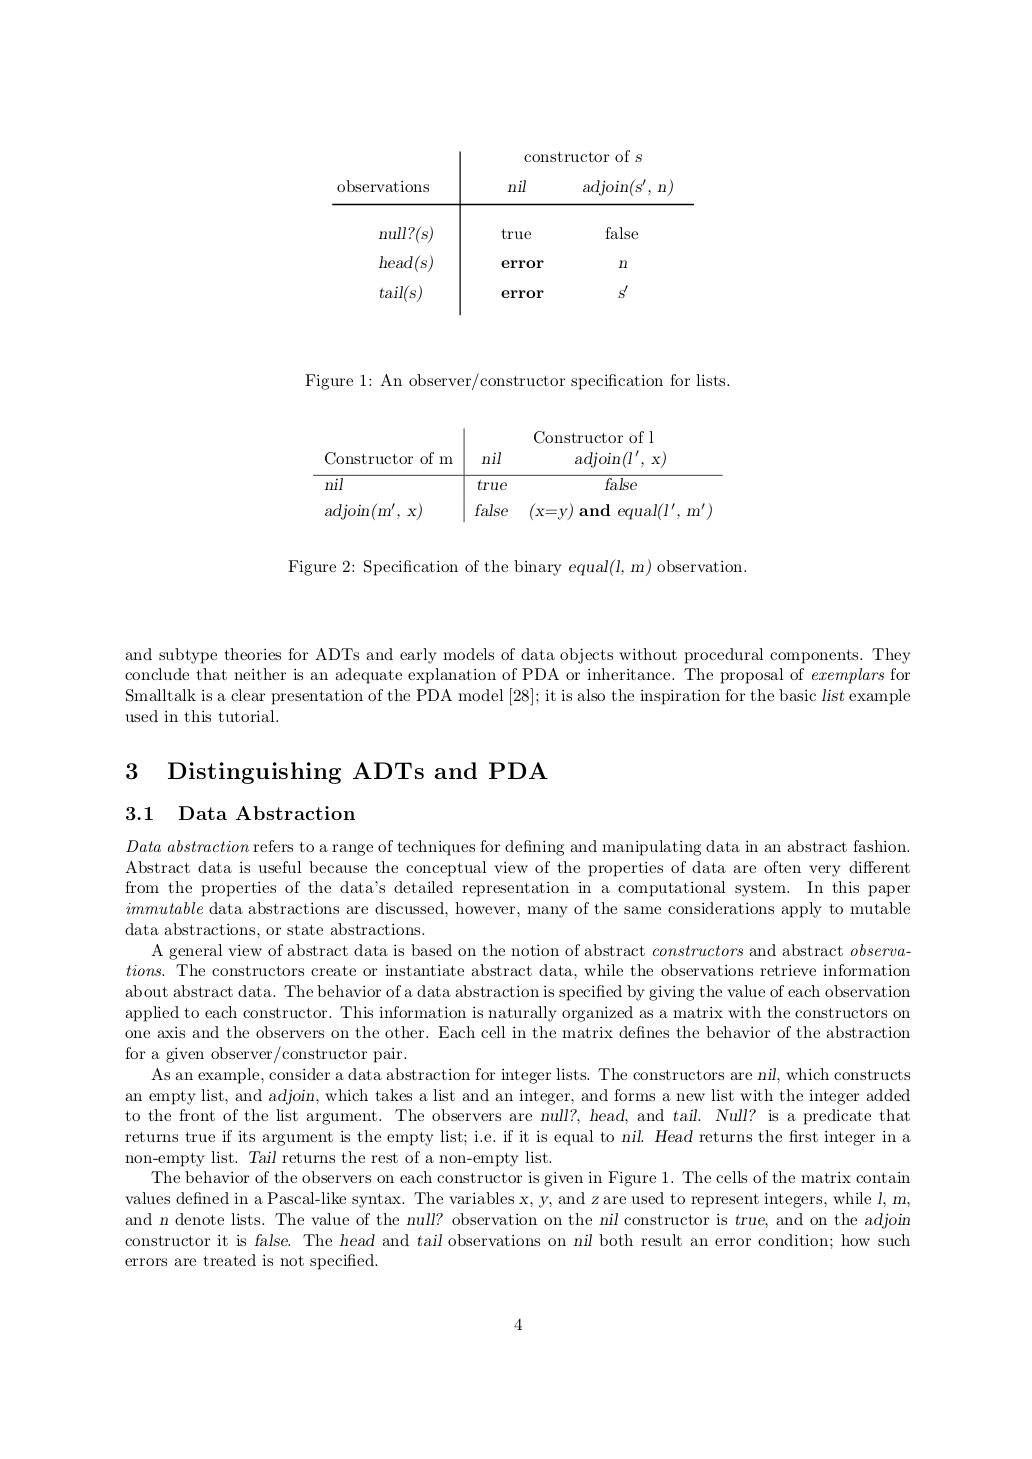Table: (332, 148, 692, 316), (313, 428, 722, 524)
